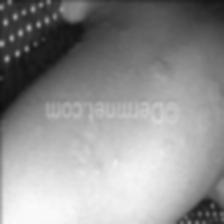Unclassified: (148, 61, 170, 85), (69, 134, 89, 156), (108, 151, 120, 167)
